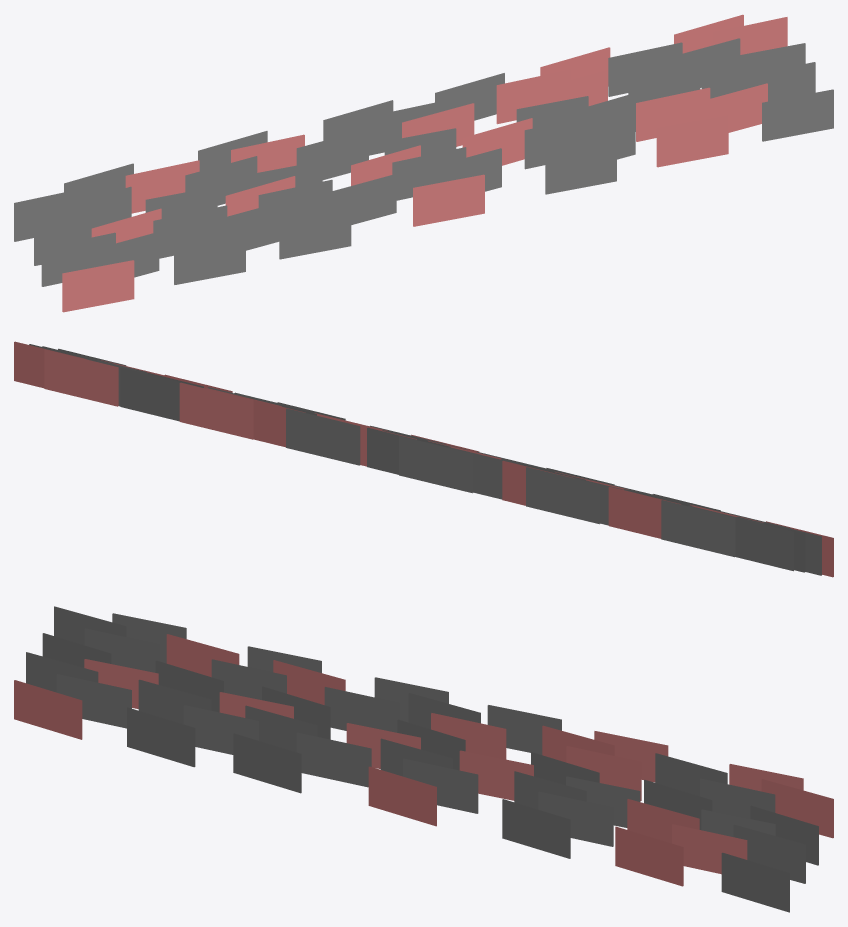
Rendered from Crowd_03.FBX.
The picture shows the model from 3 angles, top to bottom: view 1: azimuth 30°, elevation 25°; view 2: azimuth 150°, elevation 25°; view 3: azimuth 330°, elevation 25°; orthographic projection.
Visible parts, largest first — view 1: crowd003; view 2: crowd003; view 3: crowd003.
Part boxes in pixels (x1,y1,x2,y2): crowd003: [14, 14, 833, 312]; crowd003: [14, 341, 833, 577]; crowd003: [14, 606, 833, 912].
Size of the model in its own units: 1046 by 110 by 122.
